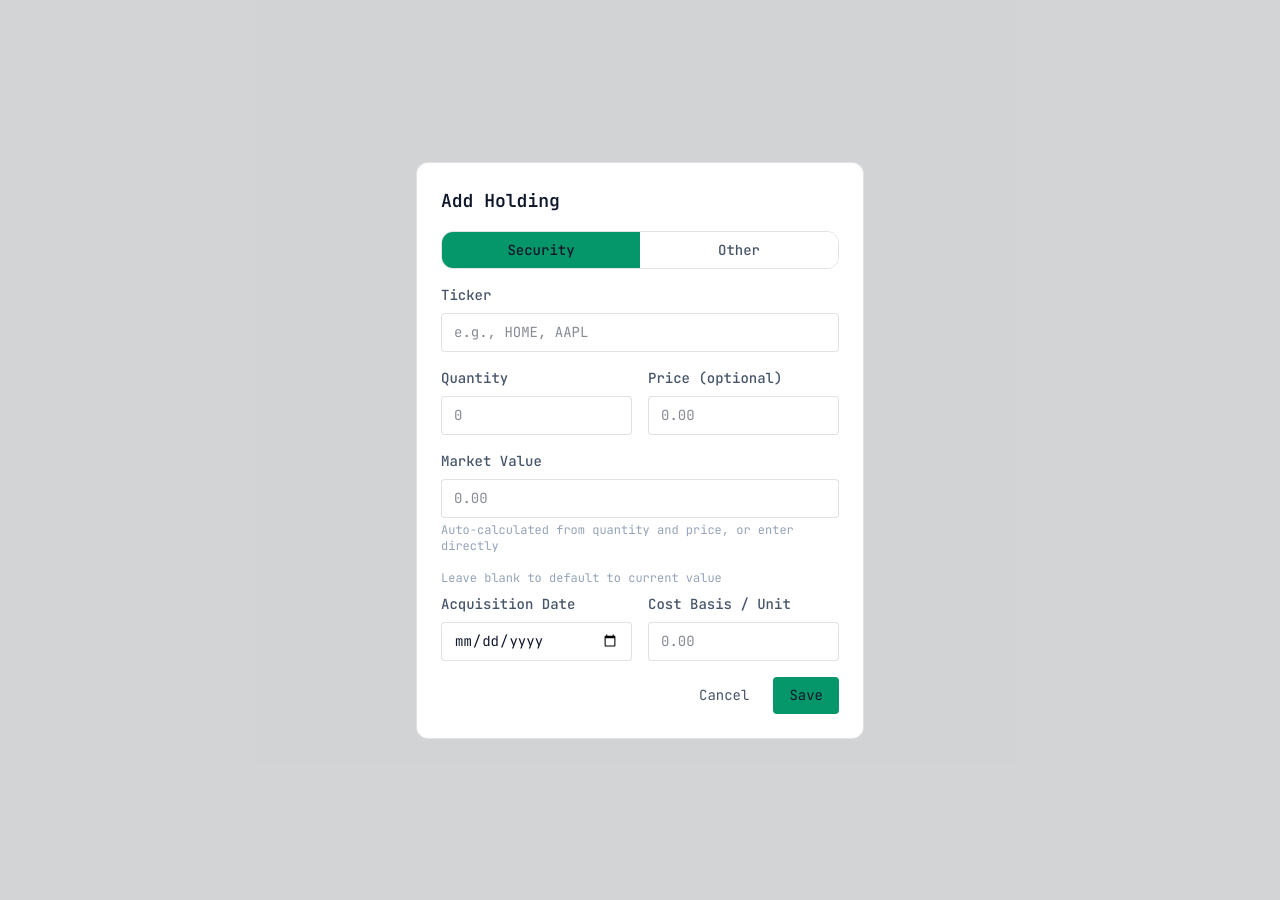
Test case: HoldingFormModal › asset type picker › shows description and value fields in Other mode, hides ticker/qty/price
The image size is (1280, 900).
Click the button with test id "asset-type-other": point(739, 250) [640,232,838,268]
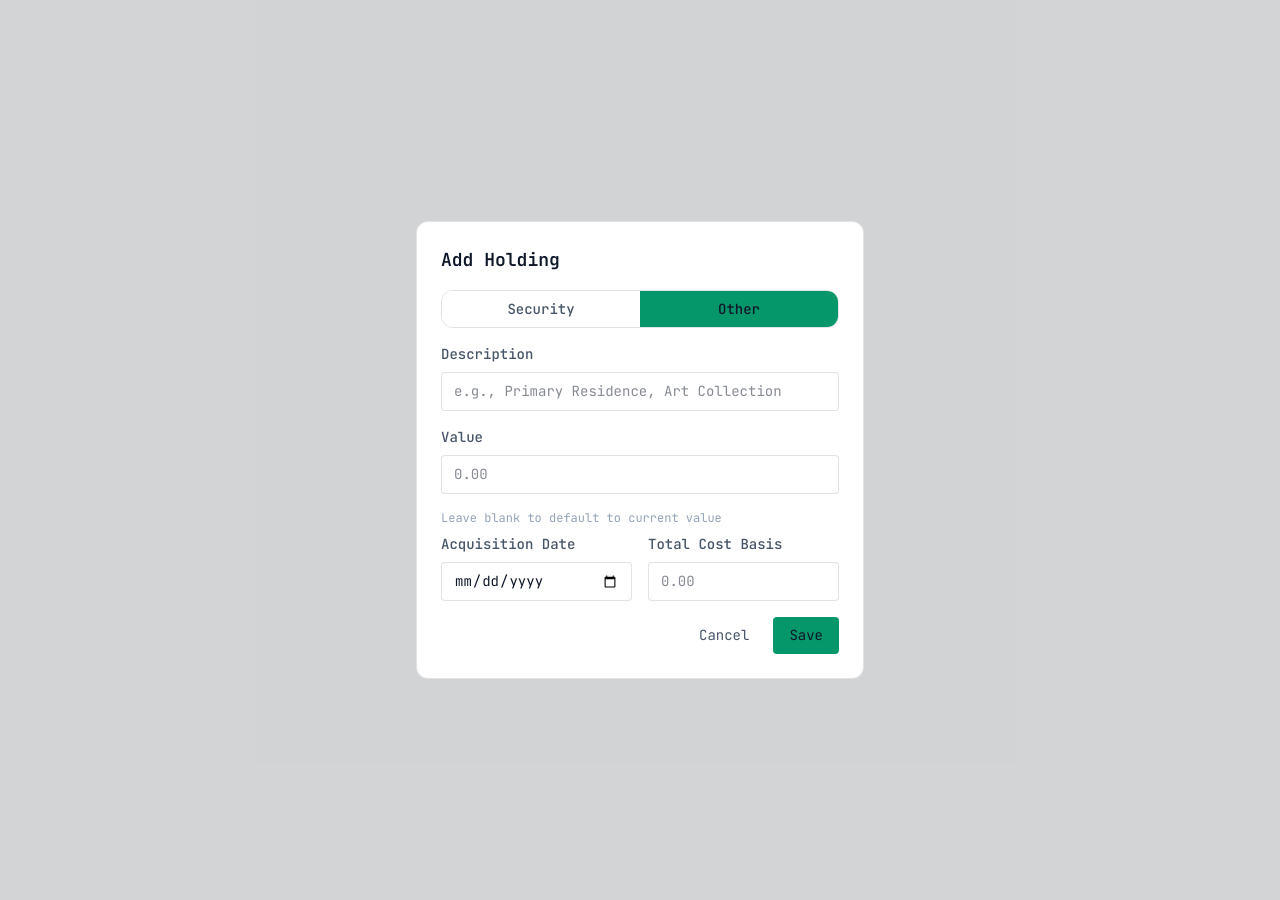
Result: the field with test id "holding-description" is shown at [441,372,839,411]
Result: the field with test id "holding-ticker" is gone
Result: the number field with test id "holding-quantity" is gone
